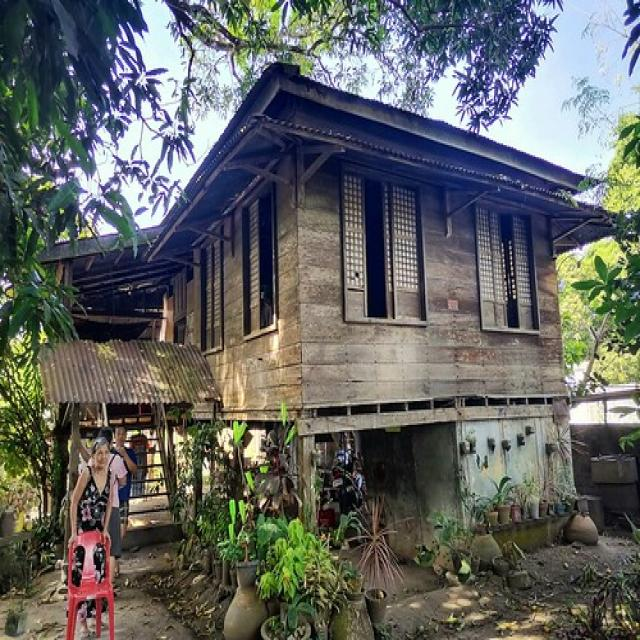Normal_building: (36, 56, 631, 570)
